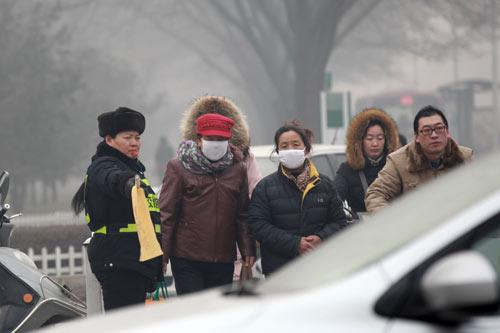person: (70, 105, 168, 314), (161, 93, 254, 296), (252, 118, 347, 276), (366, 105, 482, 214), (339, 109, 405, 227), (155, 135, 176, 182)
